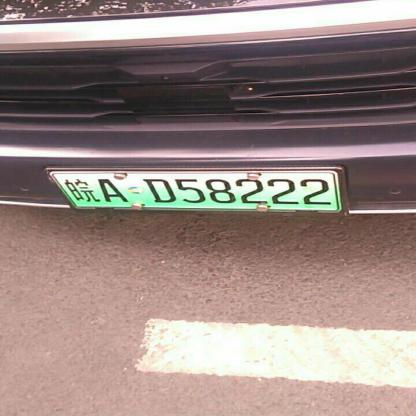lp: (52, 172, 76, 209)
